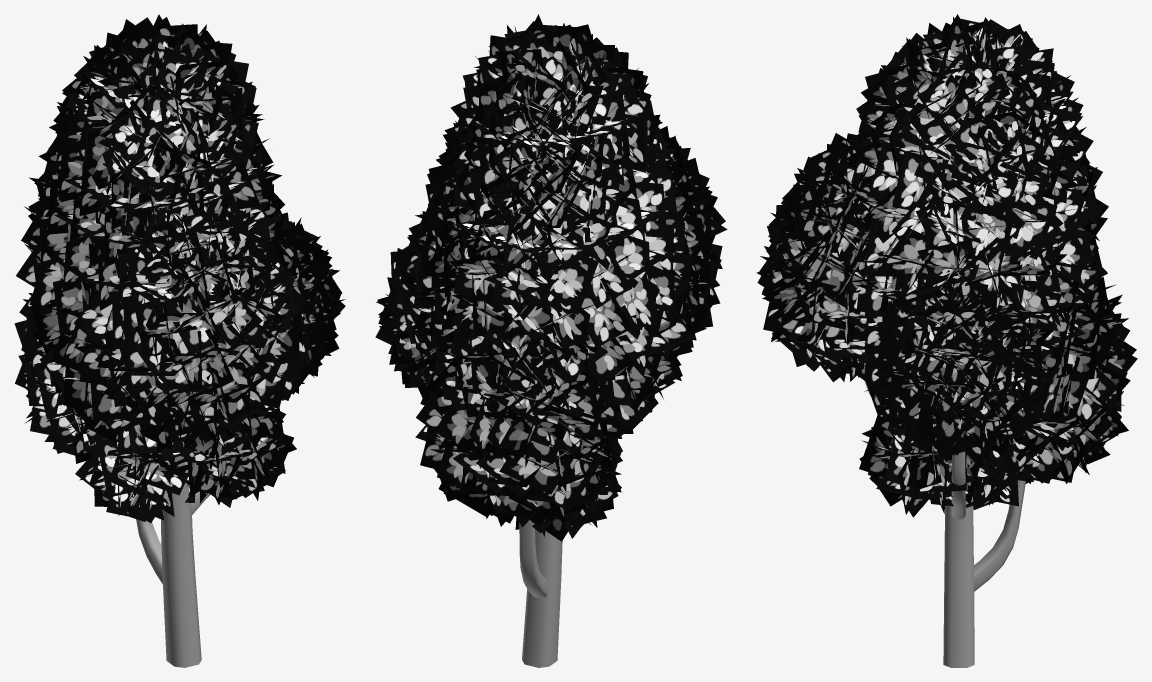
File: Tree_02_A.fbx
3 renders of one model, left to right at view 1: azimuth 30°, elevation 25°; view 2: azimuth 150°, elevation 25°; view 3: azimuth 270°, elevation 25°, orthographic.
Parts seen in each view (by area): view 1: Tree_02_A_Leaves, Tree_02_A_Trunk; view 2: Tree_02_A_Leaves, Tree_02_A_Trunk; view 3: Tree_02_A_Leaves, Tree_02_A_Trunk.
Boxes of the visible parts, x1,y1,x2,y2 form: Tree_02_A_Leaves: (14, 14, 345, 522); Tree_02_A_Trunk: (136, 437, 217, 667); Tree_02_A_Leaves: (375, 14, 727, 541); Tree_02_A_Trunk: (519, 520, 562, 667); Tree_02_A_Leaves: (756, 14, 1137, 517); Tree_02_A_Trunk: (864, 380, 1025, 667).
Size of the model in its own units: 2.29 by 4.81 by 2.63.
